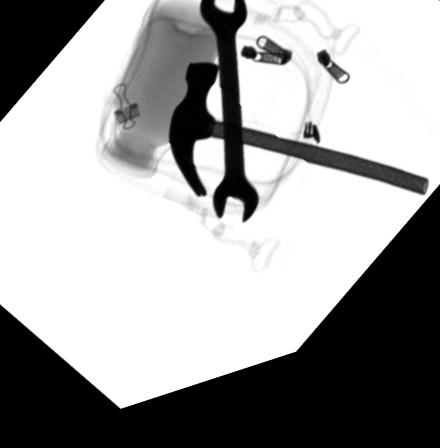Hammer: (167, 74, 430, 223)
Wrench: (197, 0, 259, 242)
